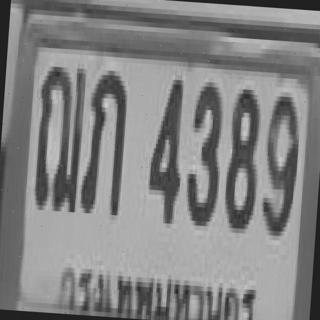A12: (32, 59, 85, 210)
A32: (78, 67, 127, 213)
N03: (182, 76, 225, 222)
N04: (146, 74, 186, 219)
N08: (222, 84, 262, 229)
N09: (258, 91, 300, 232)
P04: (51, 234, 274, 320)
